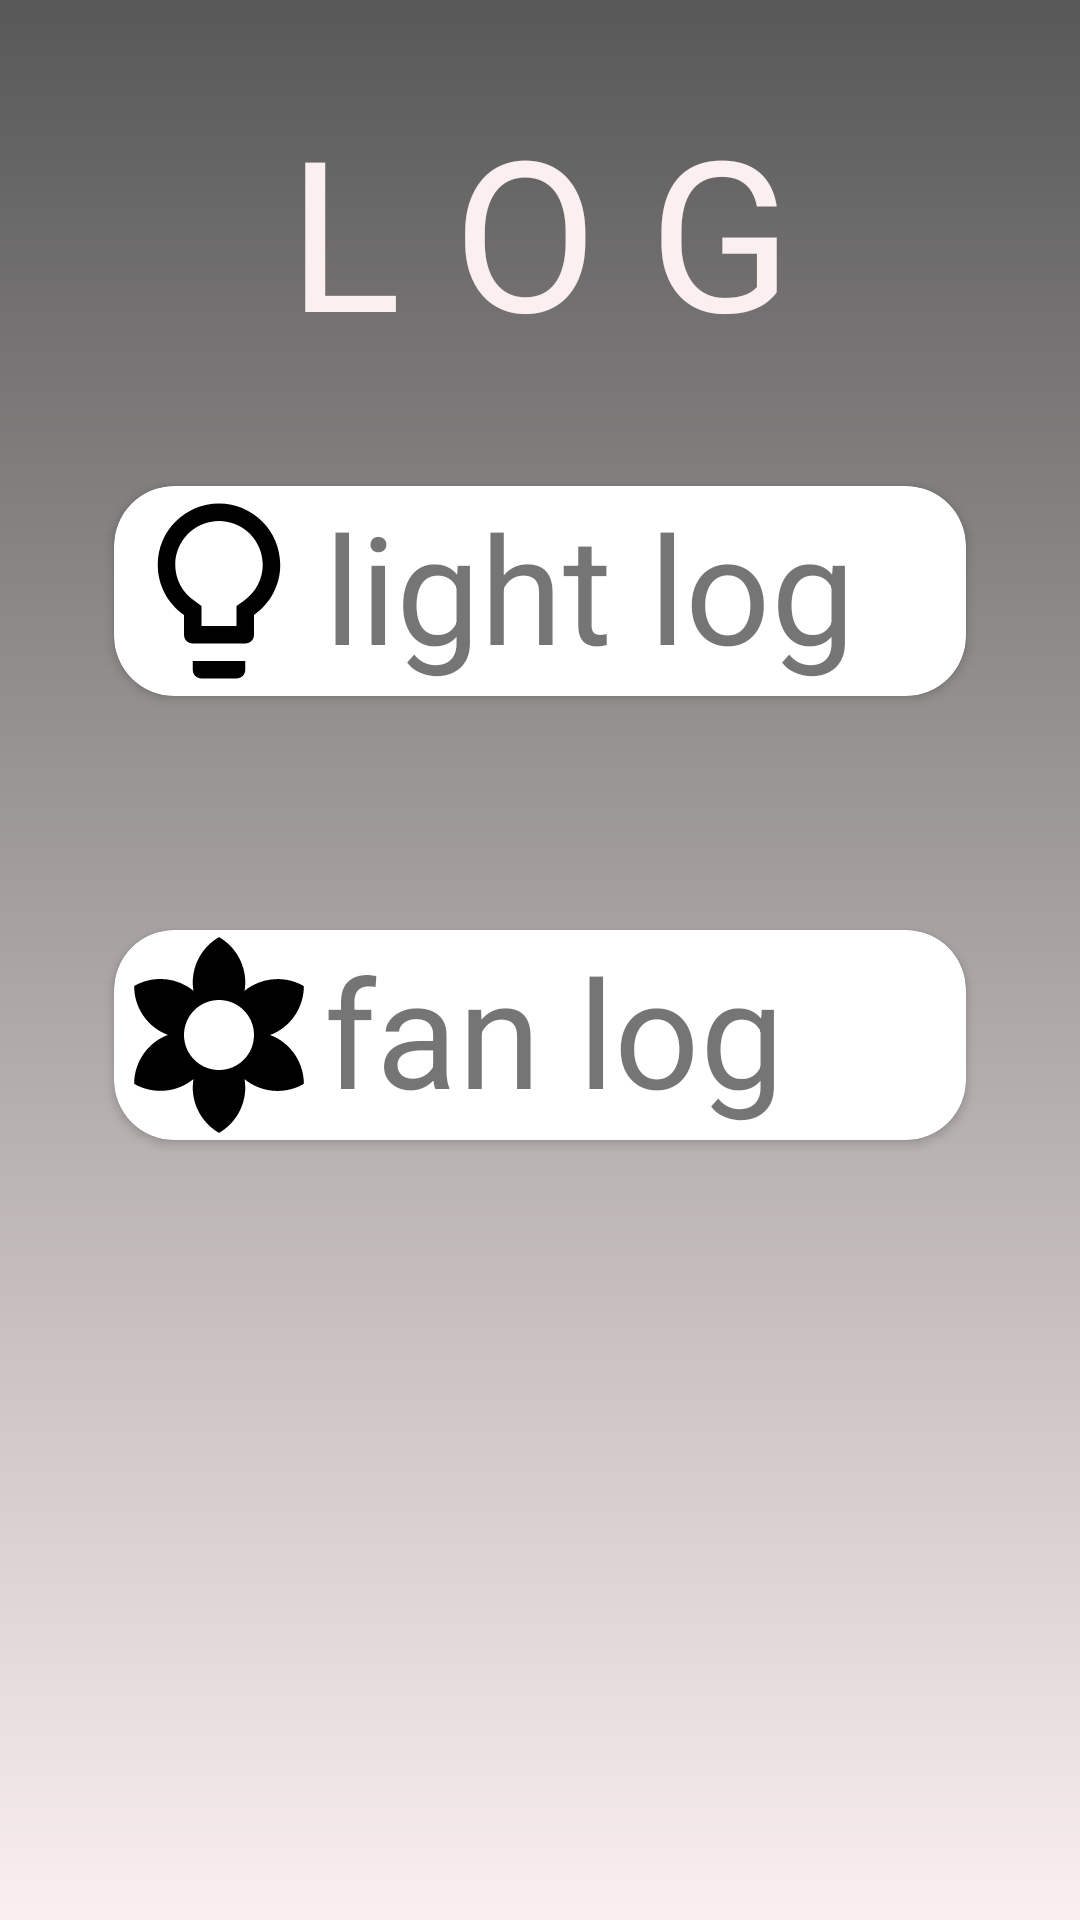

Icons on this 1080px x 1920px Android screen, each with the point to tap as (x,y):
filter vintage: (219,1035)
